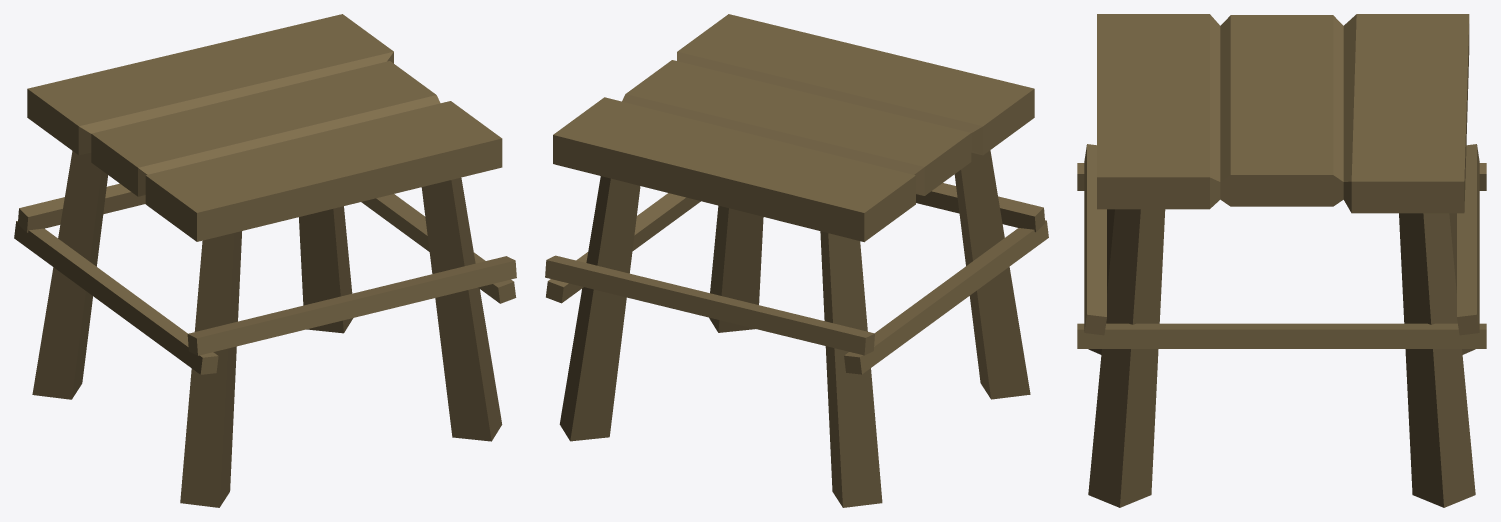
Rendered from Chair_3.fbx.
The picture shows the model from 3 angles, left to right: view 1: azimuth 30°, elevation 25°; view 2: azimuth 150°, elevation 25°; view 3: azimuth 270°, elevation 25°; orthographic projection. The views are drawn at different scales.
Visible parts, largest first — view 1: Chair_3; view 2: Chair_3; view 3: Chair_3.
Part boxes in pixels (x1,y1,x2,y2): Chair_3: (14, 14, 516, 507); Chair_3: (545, 14, 1048, 507); Chair_3: (1077, 14, 1486, 507).
Bounding box in the file's own units: 53.04 × 46.74 × 53.21.
